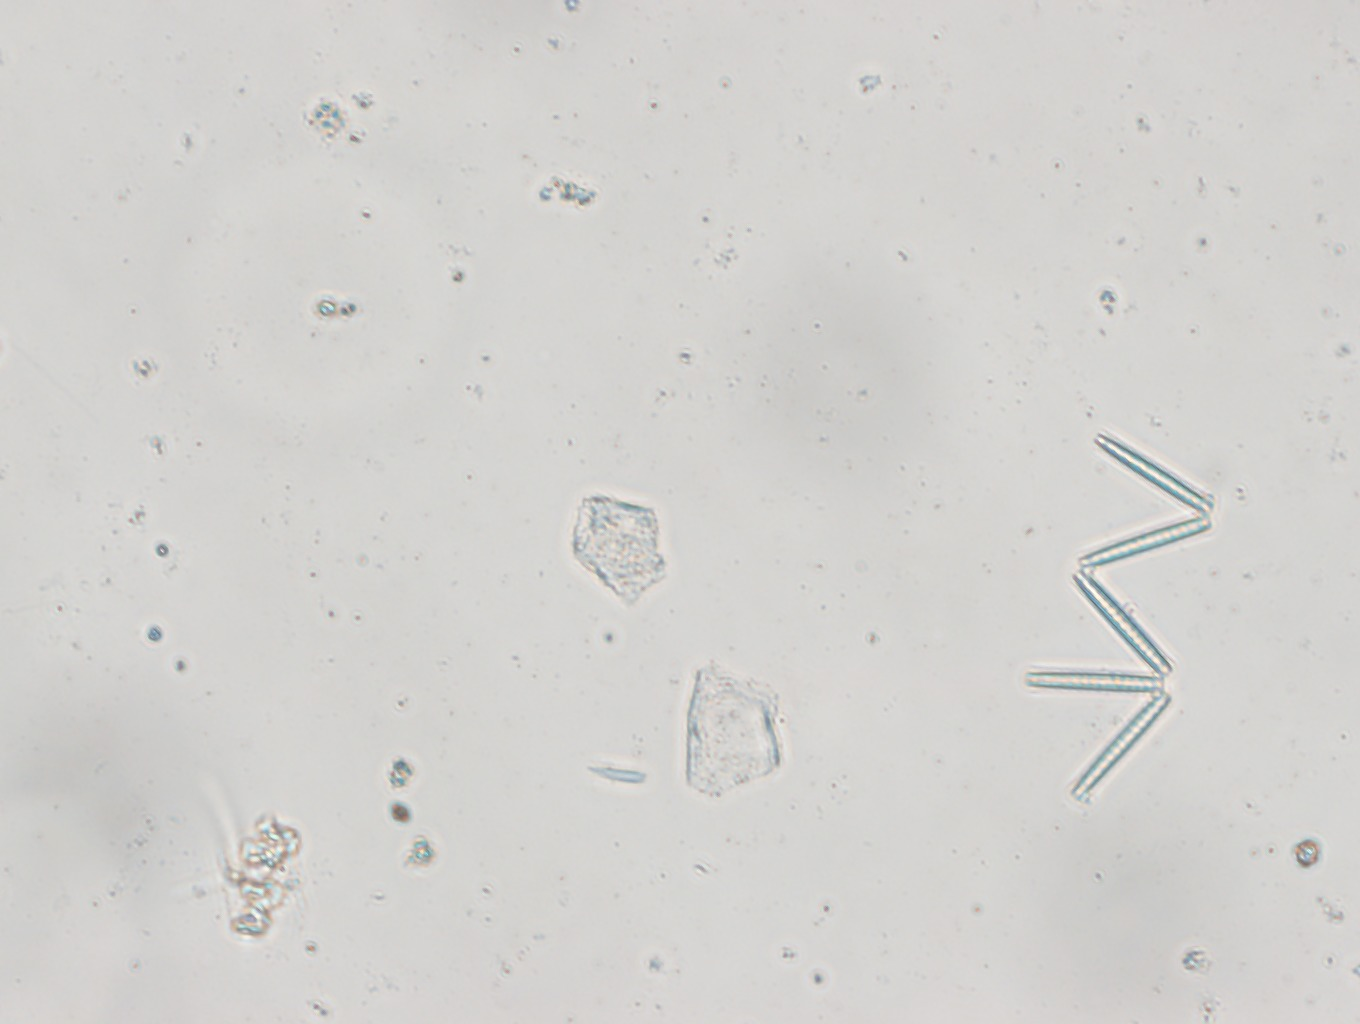thalassionema nitzschioides: (1023, 423, 1217, 798)
